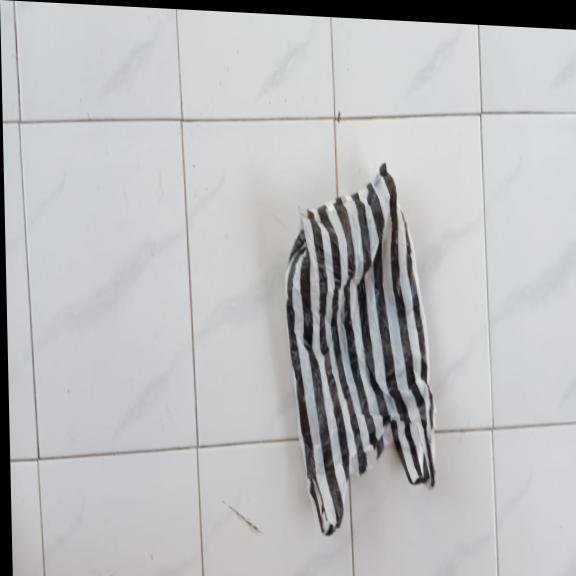Plastik: (282, 156, 440, 544)
